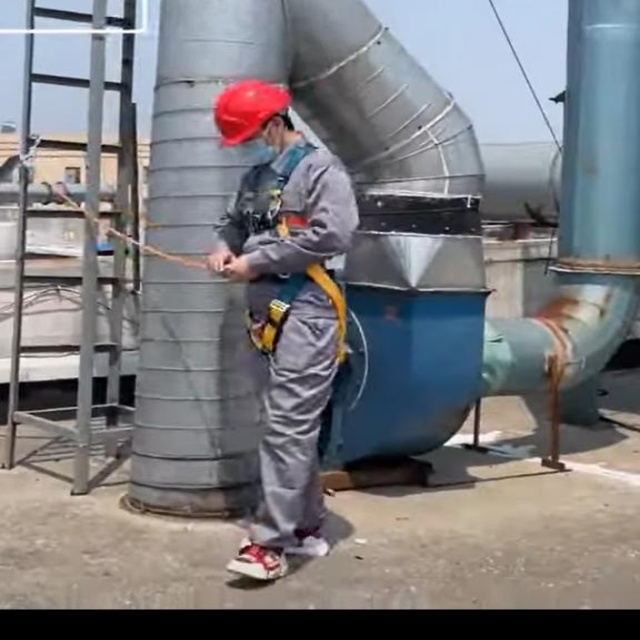Arnes_seguridad: (234, 141, 350, 376)
